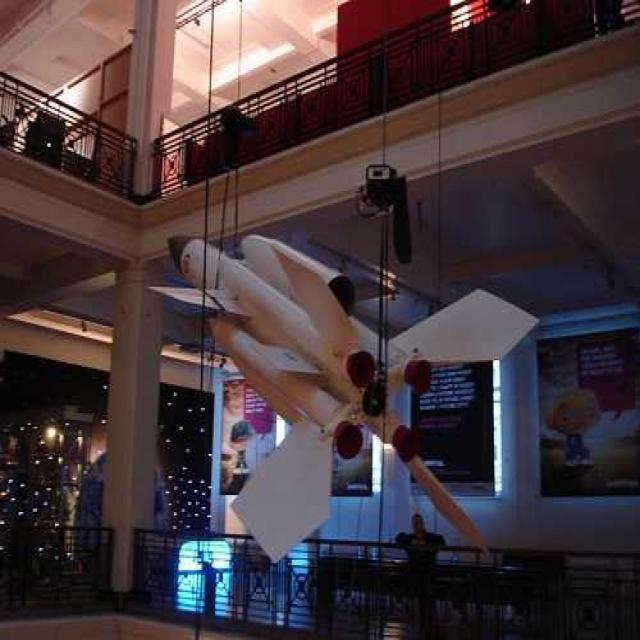missile: (162, 231, 542, 554)
